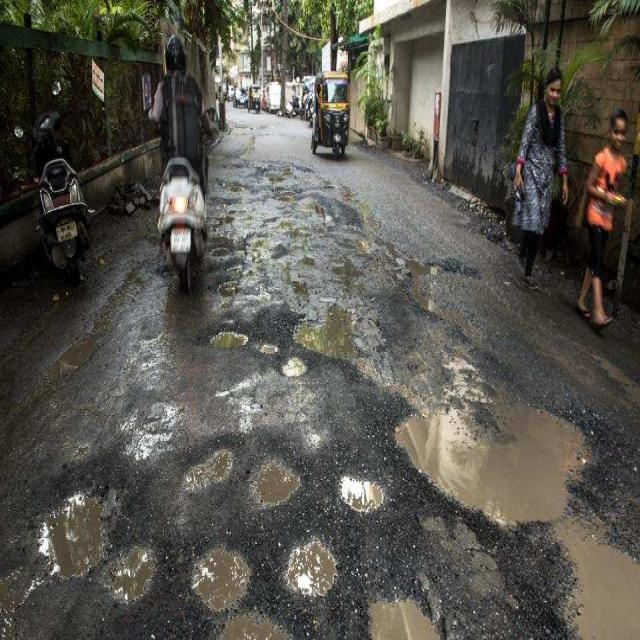Potholes: (301, 281, 640, 640), (0, 477, 180, 635), (178, 551, 297, 640), (202, 316, 312, 389), (270, 523, 348, 616), (166, 416, 243, 509), (362, 565, 433, 640), (331, 452, 394, 522), (246, 450, 308, 508)
